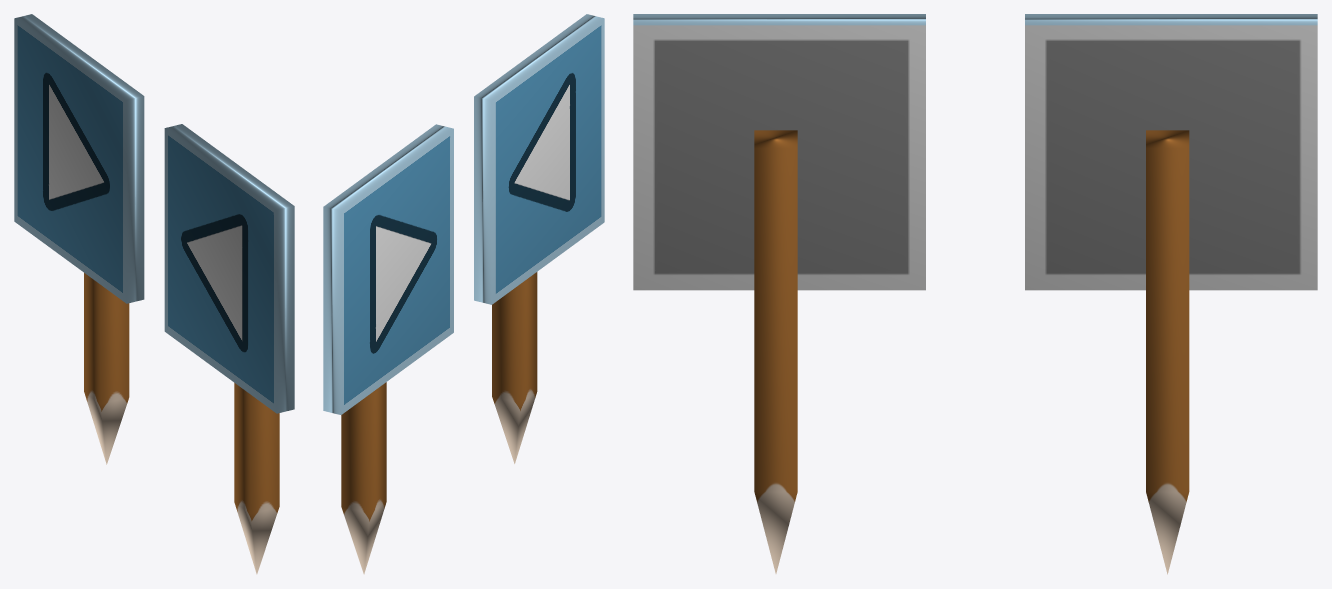
Rendered from sign.fbx.
3 renders of one model, left to right at view 1: azimuth 30°, elevation 25°; view 2: azimuth 150°, elevation 25°; view 3: azimuth 270°, elevation 25°, orthographic. The views are drawn at different scales.
Visible parts, largest first — view 1: polySurface90, polySurface94; view 2: polySurface94, polySurface90; view 3: polySurface94, polySurface90.
Boxes of the visible parts, <box> form: polySurface90: <box>14,14,144,464</box>; polySurface94: <box>164,124,294,574</box>; polySurface94: <box>474,14,604,463</box>; polySurface90: <box>323,124,453,574</box>; polySurface94: <box>633,14,925,573</box>; polySurface90: <box>1025,14,1317,574</box>.
Size of the model in its own units: 0.9849 by 7.91 by 9.11.
